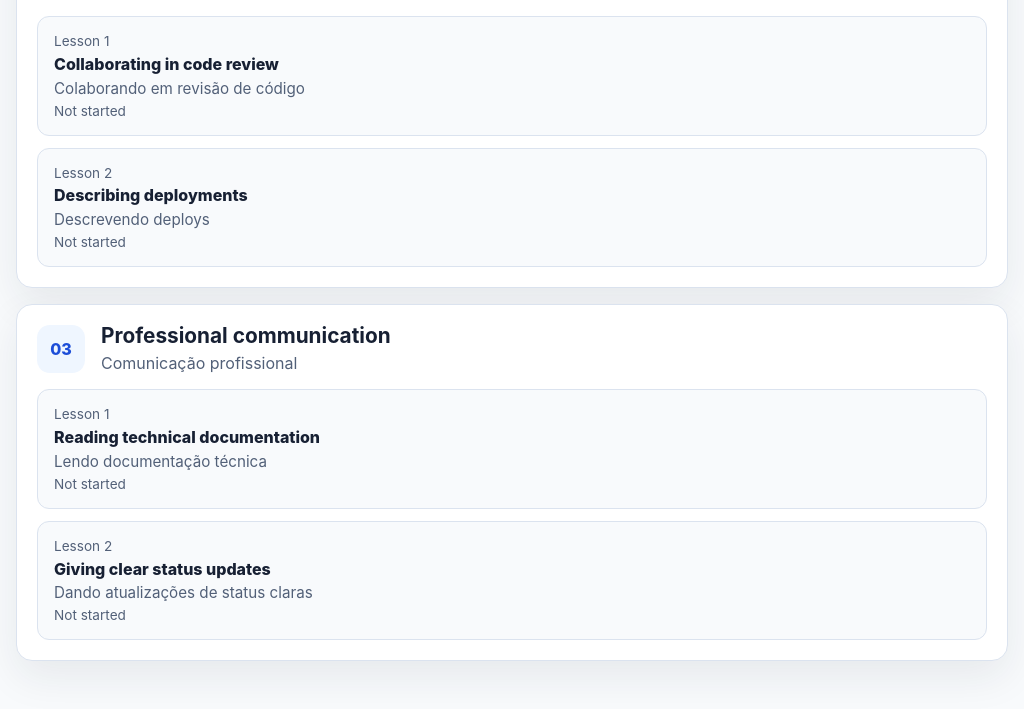
Test: application shell › renders all modules and allows direct access to a later lesson
(page scrolled)
Click the button "Reading technical documentation": (79, 414) x1=37 y1=389 x2=987 y2=509
(page scrolled)
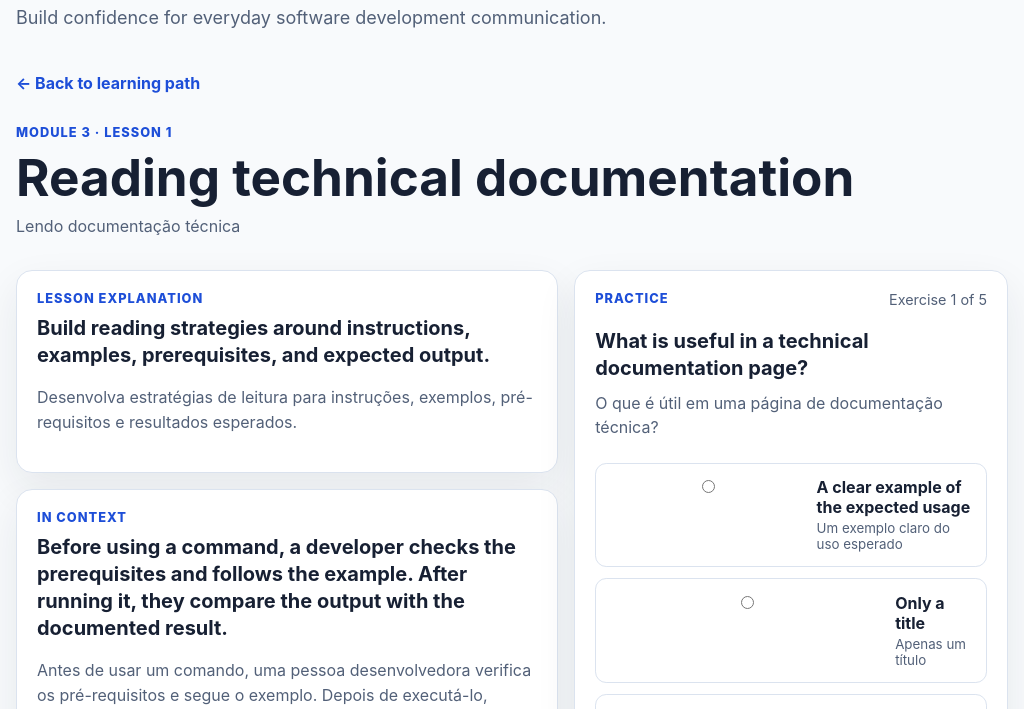
Expected: the heading "Reading technical documentation" is shown, x1=16 y1=146 x2=854 y2=208
Expected: the heading "prerequisite" is shown, x1=37 y1=316 x2=490 y2=367
